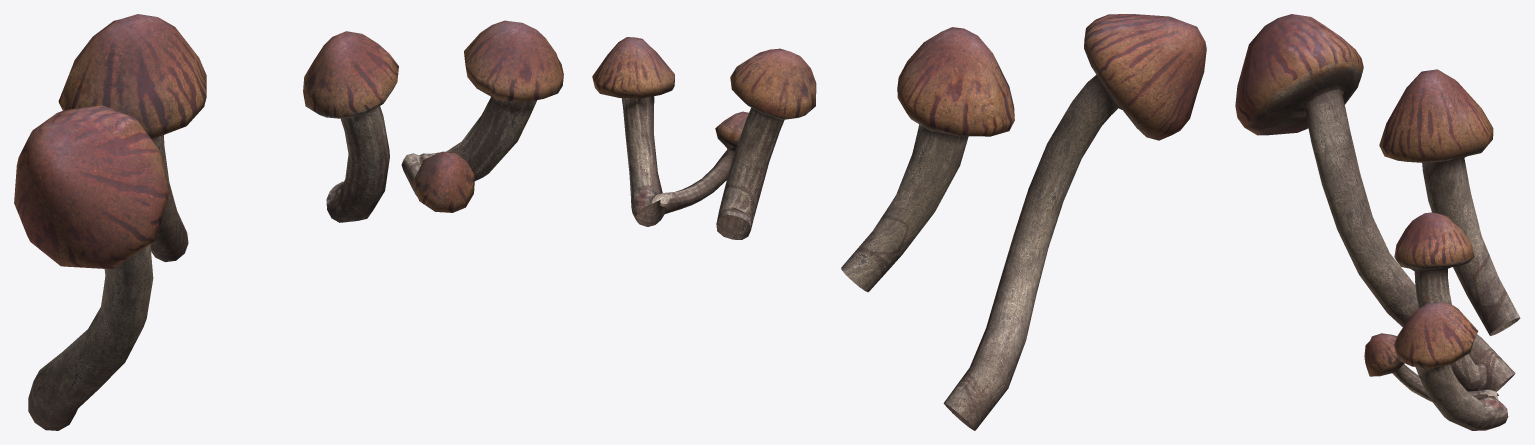
Rendered from sm_human_mushroom_chest_add.gltf.
3 renders of one model, left to right at view 1: azimuth 30°, elevation 25°; view 2: azimuth 150°, elevation 25°; view 3: azimuth 270°, elevation 25°, orthographic. The views are drawn at different scales.
Parts seen in each view (by area): view 1: sm_human_mushroom_chest_add; view 2: sm_human_mushroom_chest_add; view 3: sm_human_mushroom_chest_add.
Boxes of the visible parts, x1,y1,x2,y2 form: sm_human_mushroom_chest_add: (14,14,563,430); sm_human_mushroom_chest_add: (592,14,1206,430); sm_human_mushroom_chest_add: (1235,14,1520,430).
Bounding box in the file's own units: 29.02 × 19.27 × 14.41.
Materials: 1 (1 with a texture image).
